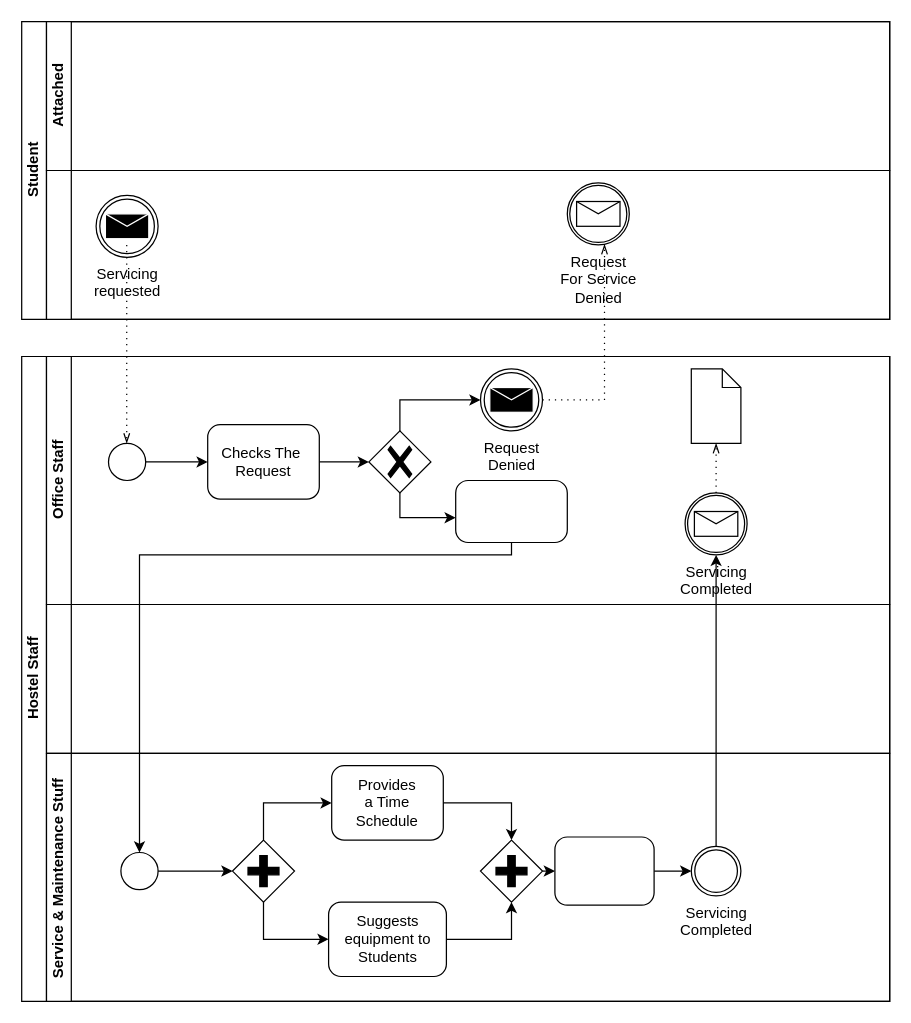
Image size: 911x1023. Some labels were removed from this diagram. The shapes that lost their labels are listed below. From the top down, each one's box as (x1, y1, x2, y2) in pixels, then its label:
(45, 169, 890, 319): Recident
(690, 368, 741, 443): Service History[Recorded]
(107, 442, 146, 480): Requests For Servicing Received
(454, 479, 567, 542): Assign a Maintenance Stuff
(45, 603, 890, 753): Provost
(120, 851, 158, 890): Appointment For Servicing Received
(554, 836, 654, 905): Do the Serviceing
